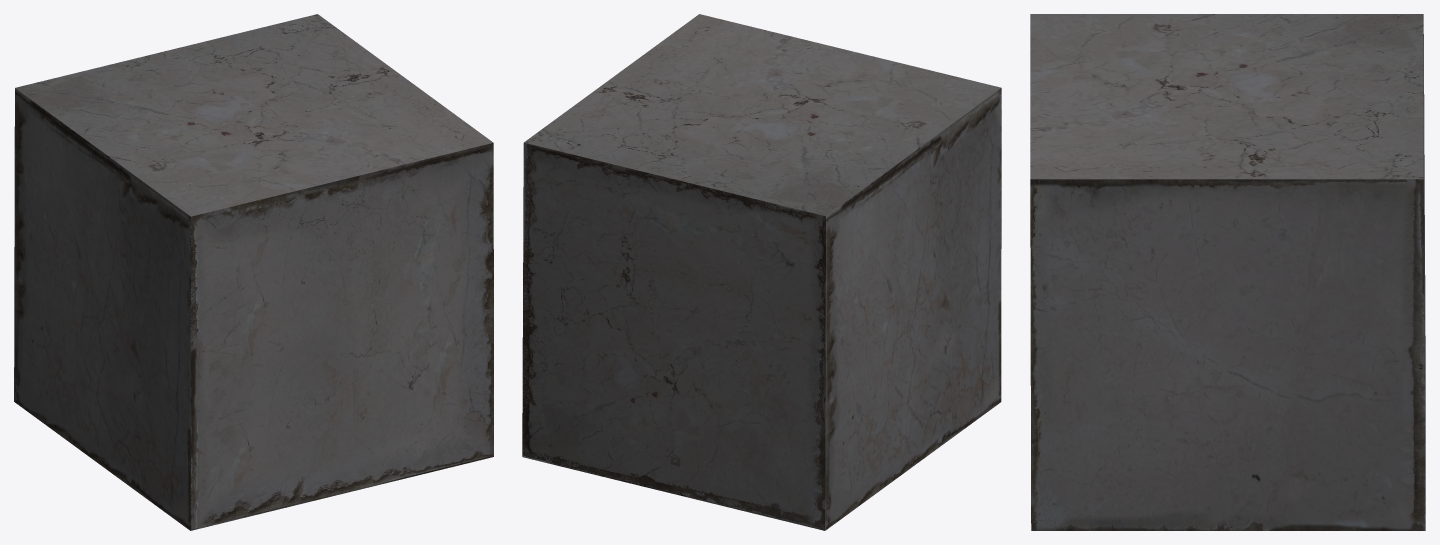
The model's file is MarbleWall.glb.
3 renders of one model, left to right at view 1: azimuth 30°, elevation 25°; view 2: azimuth 150°, elevation 25°; view 3: azimuth 270°, elevation 25°, orthographic. The views are drawn at different scales.
Visible parts, largest first — view 1: Cube; view 2: Cube; view 3: Cube.
Part boxes in pixels (<box>): Cube: <box>14,14,493,530</box>; Cube: <box>522,14,1001,530</box>; Cube: <box>1030,14,1425,530</box>.
Bounding box in the file's own units: 2.01 × 1.99 × 2.03.
Materials: 1 (1 with a texture image).
